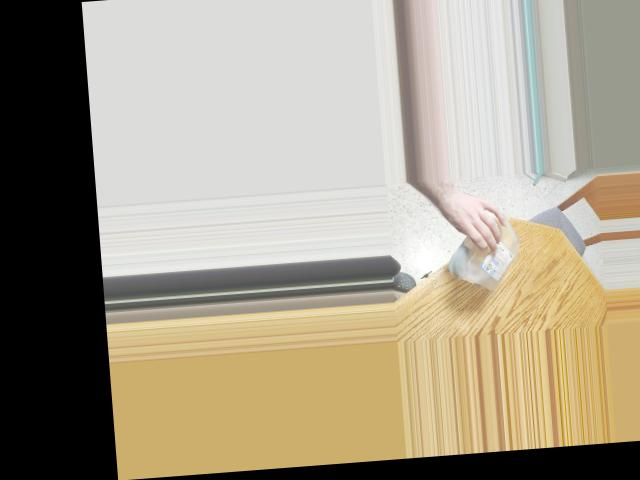cheese: (445, 201, 525, 296)
